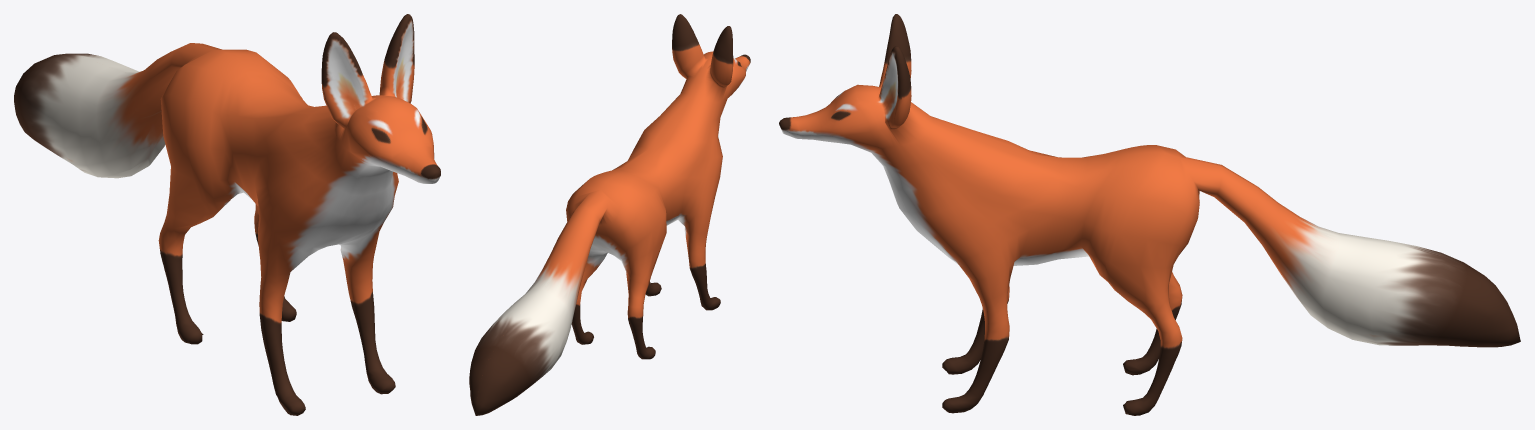
Rendered from fox1.obj.
The picture shows the model from 3 angles, left to right: view 1: azimuth 30°, elevation 25°; view 2: azimuth 150°, elevation 25°; view 3: azimuth 270°, elevation 25°; orthographic projection. The views are drawn at different scales.
Visible parts, largest first — view 1: retop; view 2: retop; view 3: retop.
Part boxes in pixels (box(x1,y1,x2,y2)): retop: box(14, 14, 440, 415); retop: box(469, 14, 750, 415); retop: box(779, 14, 1520, 415).
Bounding box in the file's own units: 0.3134 × 1 × 1.85.
